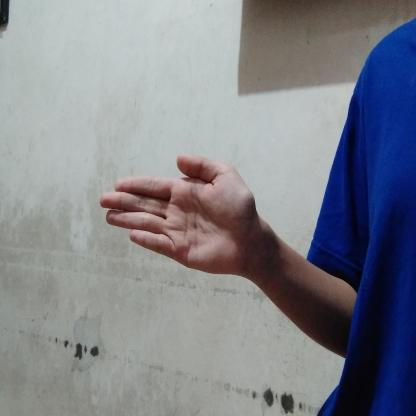ready: (92, 148, 280, 286)
